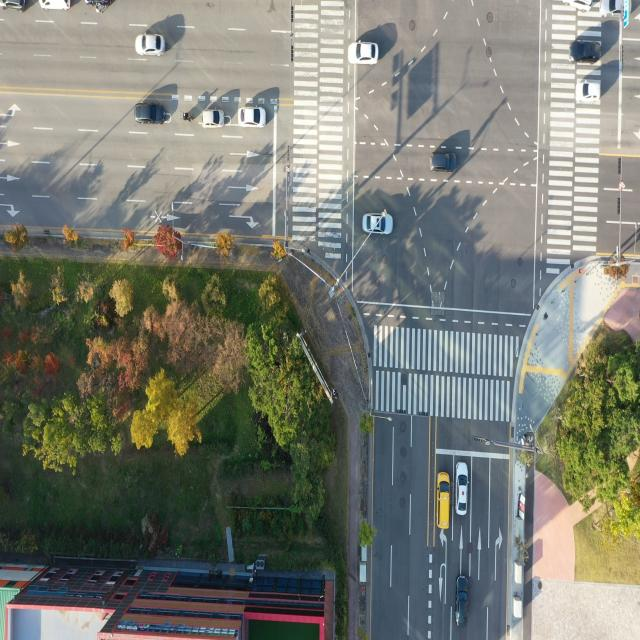car: (454, 457, 468, 517), (134, 102, 166, 127), (347, 39, 379, 64), (437, 470, 450, 531), (456, 463, 470, 519), (135, 32, 165, 58), (456, 575, 470, 630), (570, 40, 602, 64), (362, 212, 392, 236), (429, 150, 456, 173), (598, 0, 630, 19), (574, 81, 601, 102), (239, 107, 264, 128), (202, 108, 224, 129), (40, 0, 72, 14), (0, 0, 28, 13), (564, 0, 590, 14)
